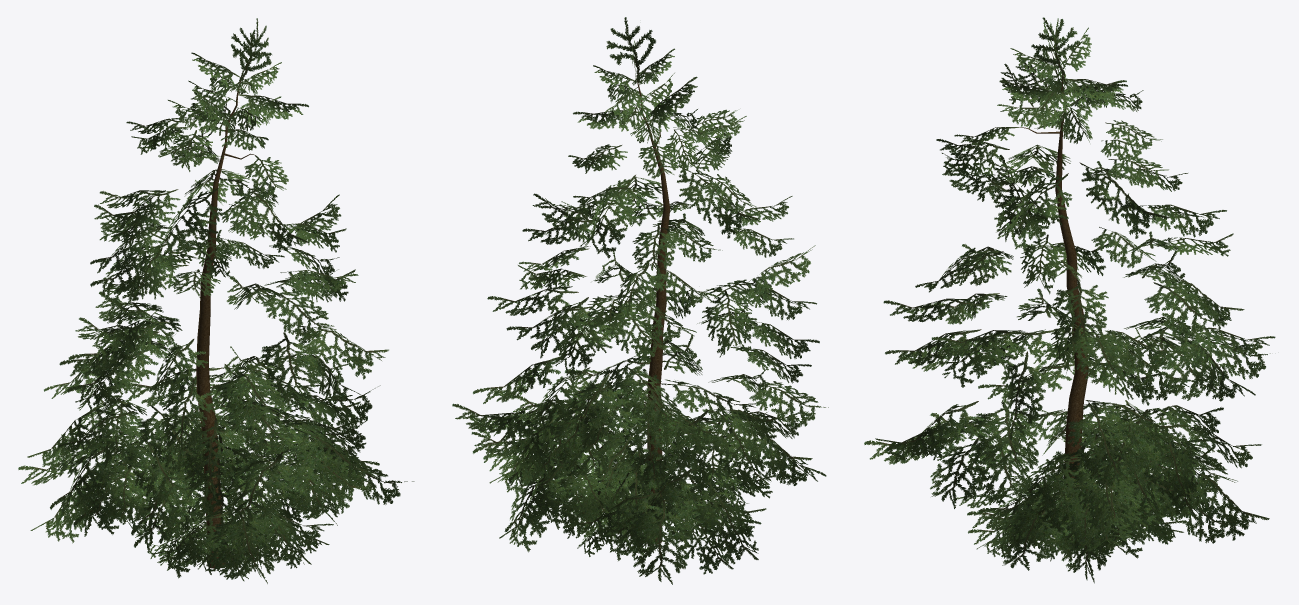
The model's file is baum_fichte_4_lod1.glb.
3 views of the same model, side by side, from view 1: azimuth 30°, elevation 25°; view 2: azimuth 150°, elevation 25°; view 3: azimuth 270°, elevation 25° (orthographic). The views are drawn at different scales.
Visible parts, largest first — view 1: Krone, Stamm; view 2: Krone, Stamm; view 3: Krone, Stamm.
Part boxes in pixels (<box>): Krone: <box>18,18,414,583</box>; Stamm: <box>196,81,254,568</box>; Krone: <box>452,17,828,584</box>; Stamm: <box>636,76,670,544</box>; Krone: <box>864,17,1275,583</box>; Stamm: <box>1020,73,1088,544</box>.
Bounding box in the file's own units: 9.27 × 13.08 × 9.1.
Materials: 2 (2 with a texture image).
